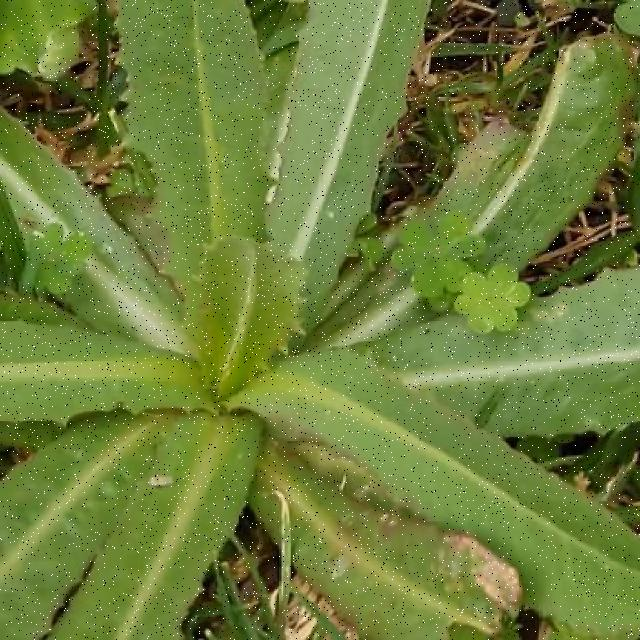weed: (0, 0, 640, 640), (420, 34, 635, 270)
